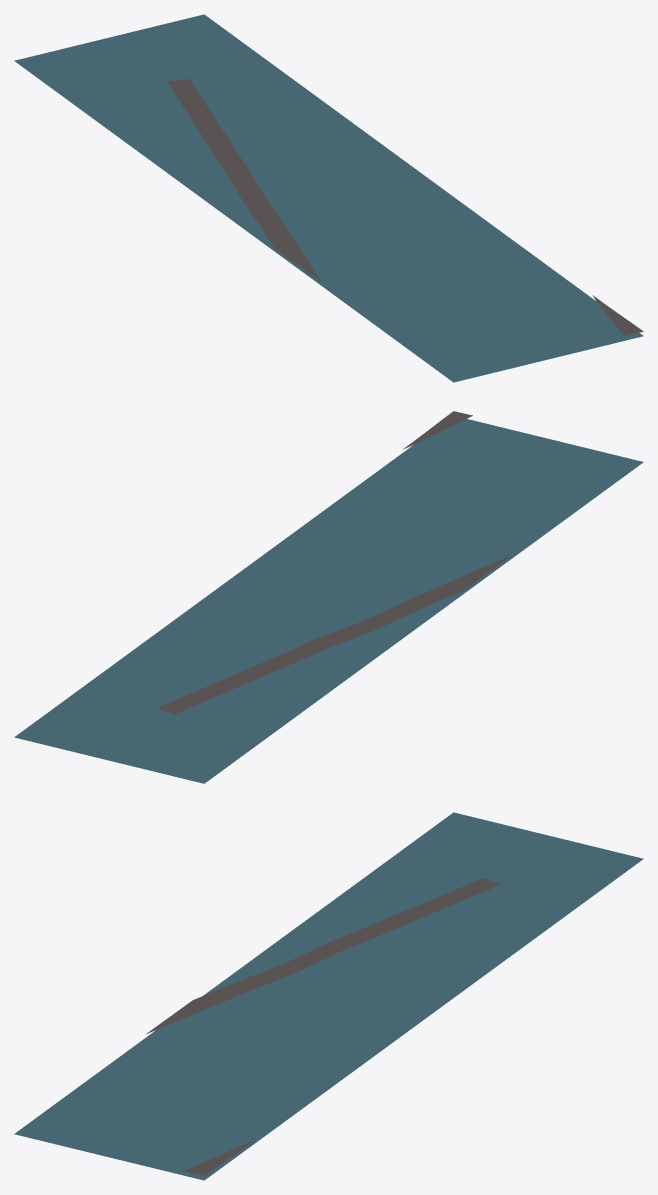
The picture shows the model from 3 angles, top to bottom: view 1: azimuth 30°, elevation 25°; view 2: azimuth 150°, elevation 25°; view 3: azimuth 330°, elevation 25°; orthographic projection.
Parts seen in each view (by area): view 1: c_p06_m05; view 2: c_p06_m05; view 3: c_p06_m05.
Boxes of the visible parts, x1,y1,x2,y2 form: c_p06_m05: [14, 14, 643, 382]; c_p06_m05: [14, 411, 643, 783]; c_p06_m05: [14, 812, 643, 1180].
Size of the model in its own units: 32 by 0.7777 by 128.
